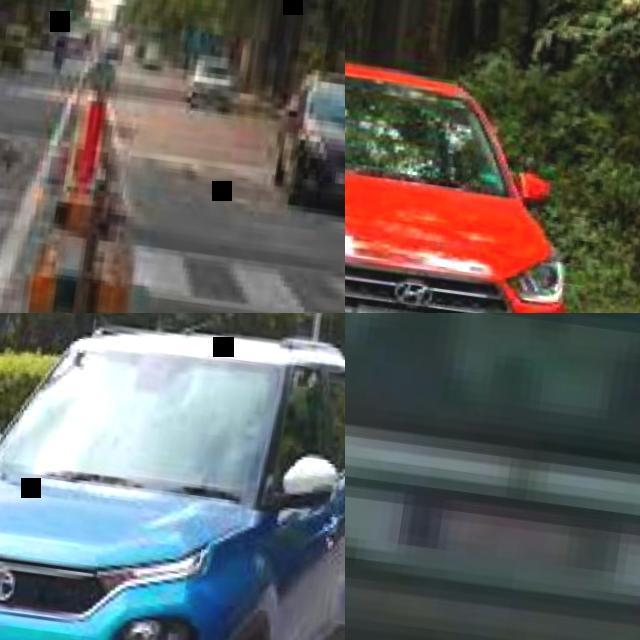car: (0, 326, 342, 639), (272, 74, 344, 213)
